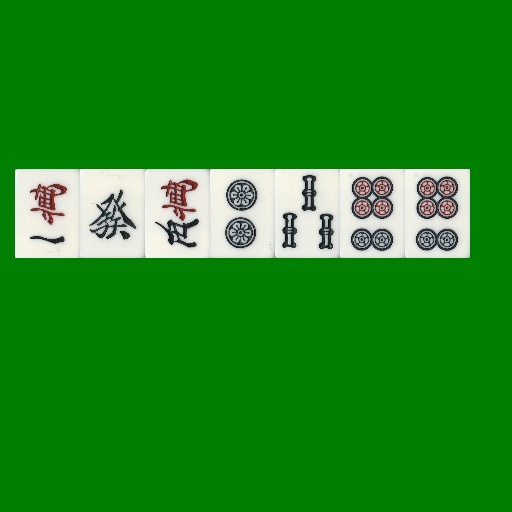1m: (15, 169, 80, 258)
2p: (210, 169, 275, 258)
3s: (275, 169, 340, 258)
5m: (145, 169, 210, 258)
6p: (340, 169, 405, 258), (405, 169, 470, 258)
hatsu: (80, 169, 145, 258)
